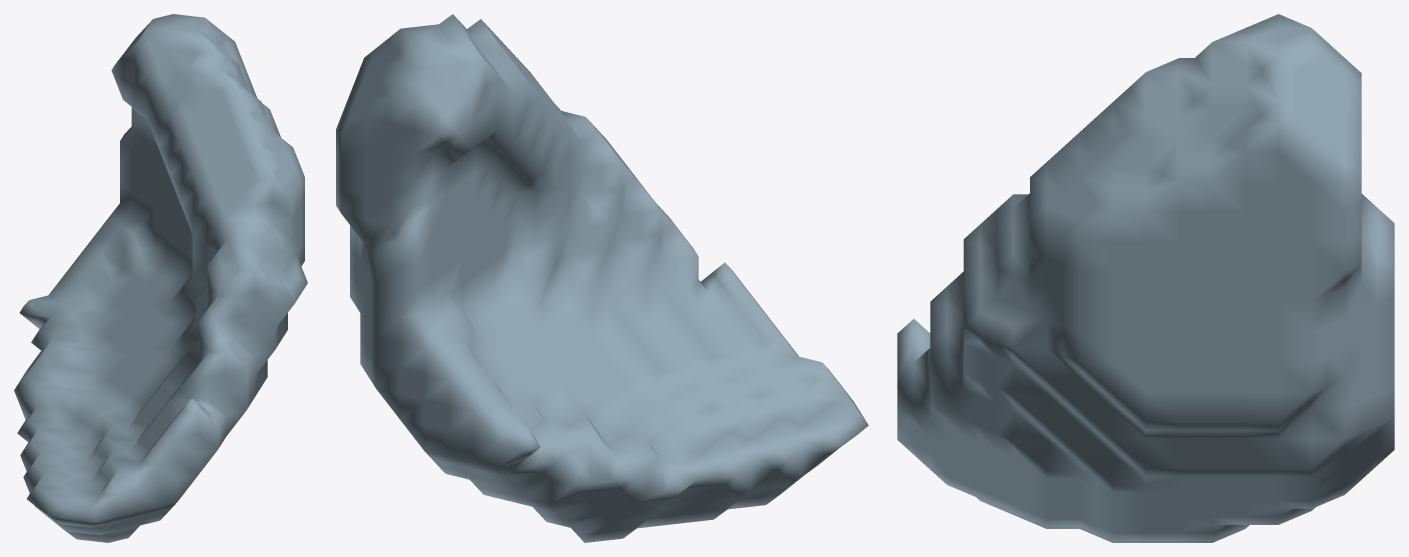
The model's file is vpm-source-left.glb.
3 views of the same model, side by side, from view 1: azimuth 30°, elevation 25°; view 2: azimuth 150°, elevation 25°; view 3: azimuth 270°, elevation 25° (orthographic). The views are drawn at different scales.
Parts seen in each view (by area): view 1: Native_10425; view 2: Native_10425; view 3: Native_10425.
Part boxes in pixels (bbox=[...]): Native_10425: bbox=[14, 14, 307, 542]; Native_10425: bbox=[336, 14, 868, 542]; Native_10425: bbox=[897, 14, 1394, 542].
Bounding box in the file's own units: 0.0075 × 0.0095 × 0.0075.
